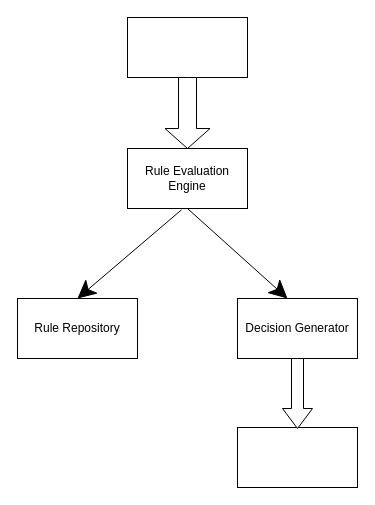
Some shapes in this 375 by 505 pixel diagram are drawn without their labels. The shapes that lost their labels are listed below. From the top down, each one's centre as x and y in pixels, then its label:
the point at 187,47: API Controller
the point at 297,457: Audit Publisher
